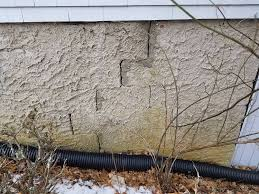stairstep_crack: (66, 21, 153, 151)
